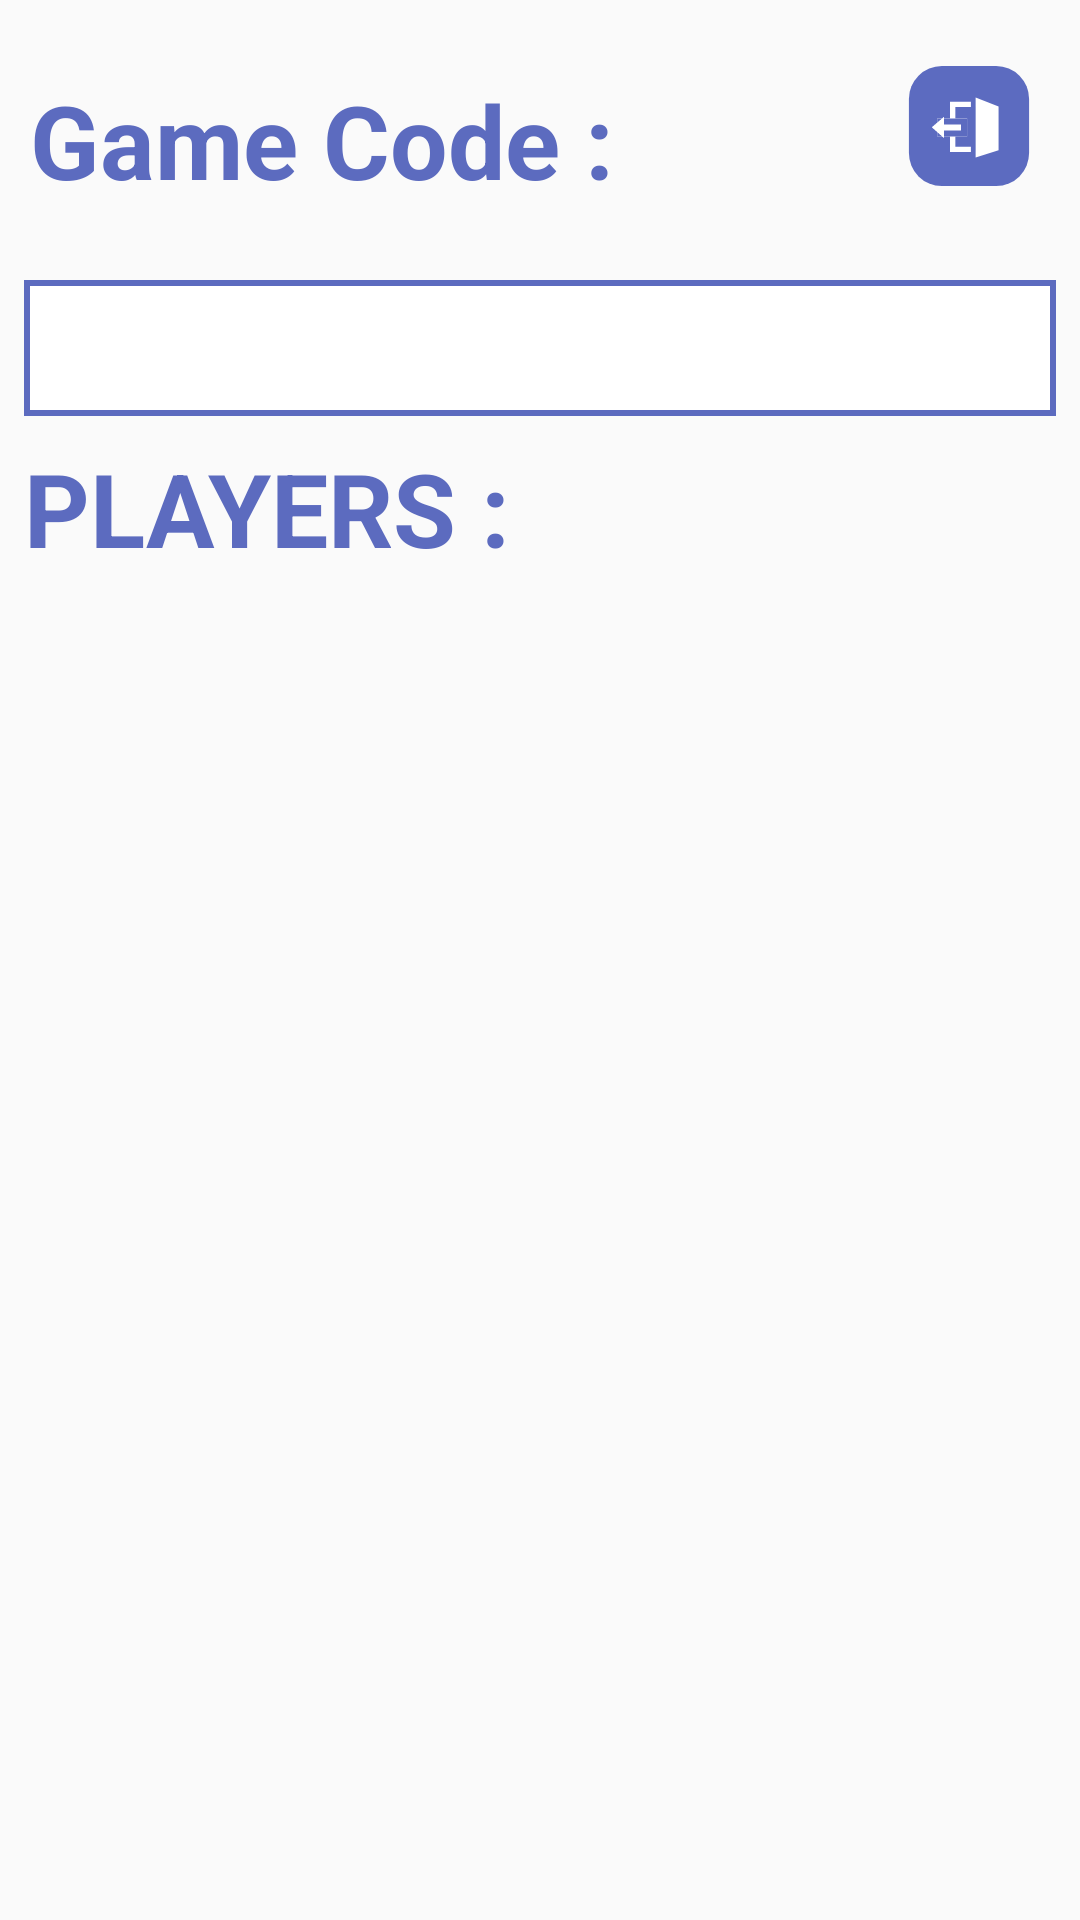

Point at icon controls on the screen. Image size 1080px×1920px, points as [x,y].
leave: [969,126]
